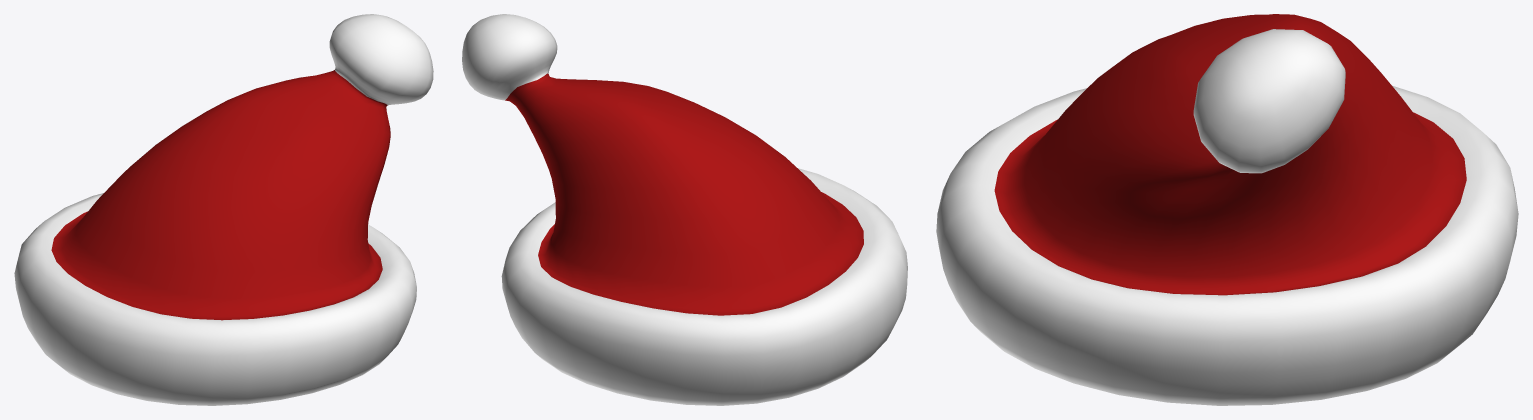
The model's file is santa_hat.glb.
The picture shows the model from 3 angles, left to right: view 1: azimuth 30°, elevation 25°; view 2: azimuth 150°, elevation 25°; view 3: azimuth 270°, elevation 25°; orthographic projection. The views are drawn at different scales.
Visible parts, largest first — view 1: santa_hat; view 2: santa_hat; view 3: santa_hat.
Boxes of the visible parts, <box> form: santa_hat: <box>14,14,433,405</box>; santa_hat: <box>462,14,907,405</box>; santa_hat: <box>936,14,1518,405</box>.
Size of the model in its own units: 0.7944 by 0.5231 by 0.7061.
Materials: 1 (1 with a texture image).
